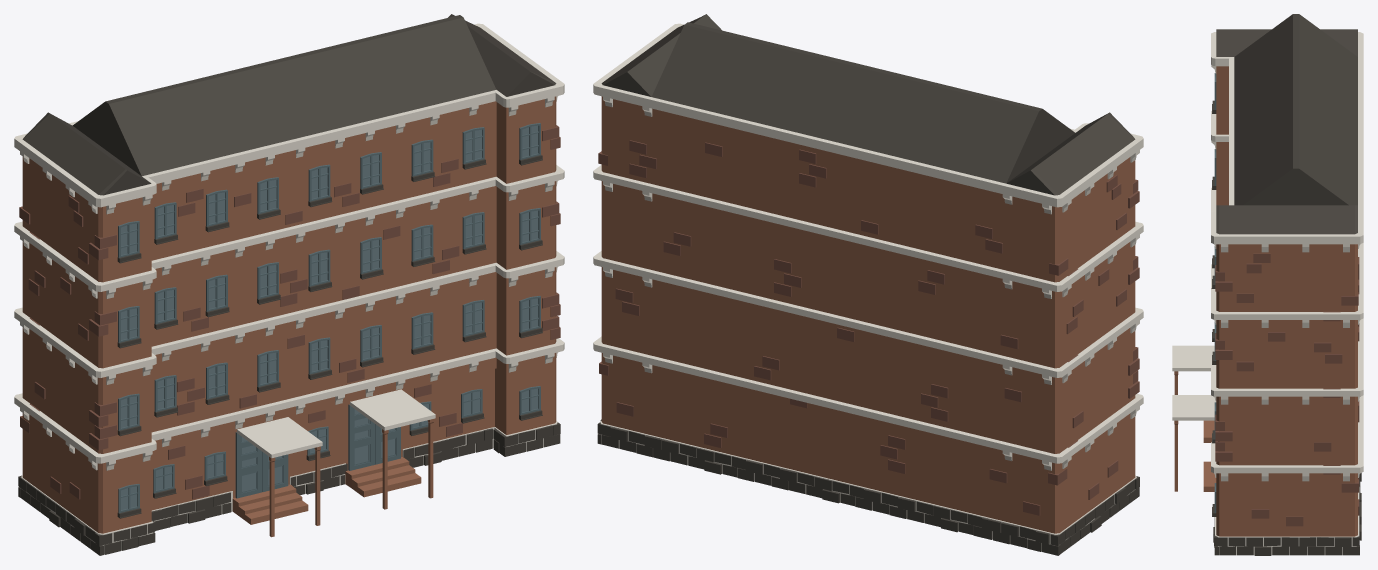
The model's file is london-terrace-c.glb.
3 views of the same model, side by side, from view 1: azimuth 30°, elevation 25°; view 2: azimuth 150°, elevation 25°; view 3: azimuth 270°, elevation 25° (orthographic). The views are drawn at different scales.
Size of the model in its own units: 6.83 by 5.68 by 2.7.
